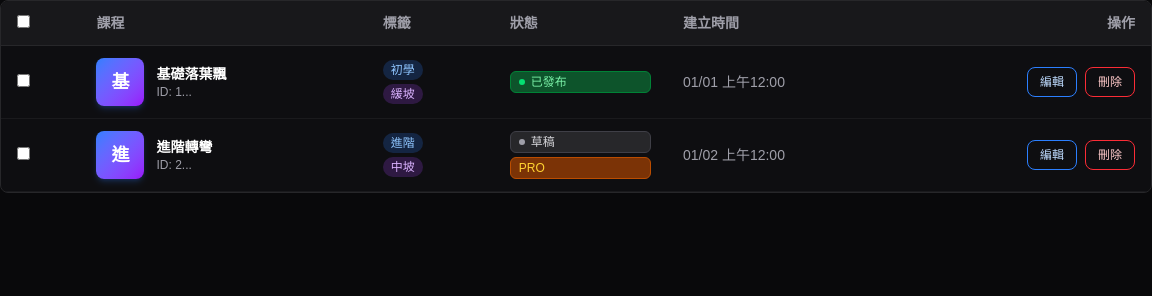
Test: LessonManageTable - Batch Operations › 全選功能 › 應該可以全選所有課程
Click the checkbox next to "課程": (24, 22) [17,15,30,28]
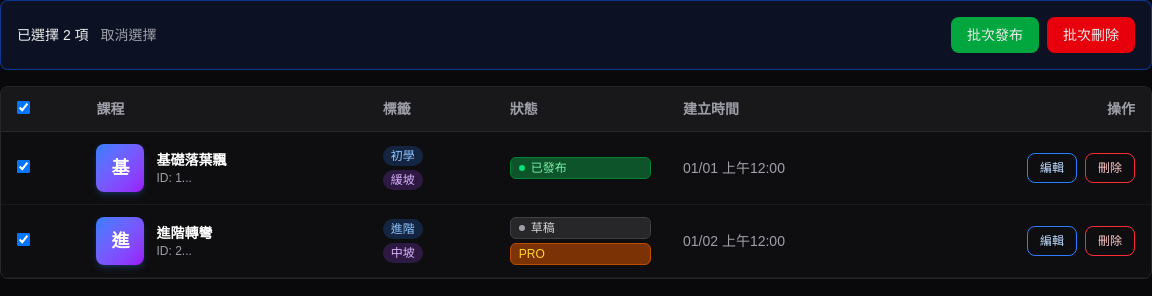
Check: the checkbox in the row of "基礎落葉飄" is checked, box [17,160,30,173]
Check: the checkbox in the row of "進階轉彎" is checked, box [17,233,30,246]
